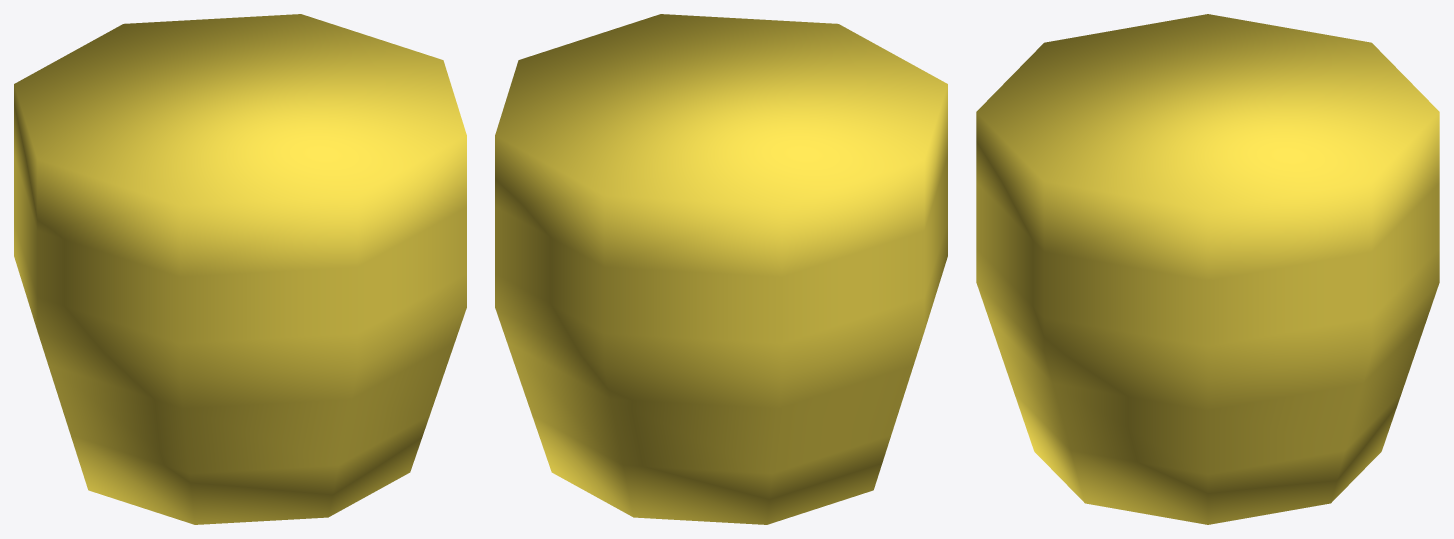
Rendered from lemonade 4.glb.
3 renders of one model, left to right at view 1: azimuth 30°, elevation 25°; view 2: azimuth 150°, elevation 25°; view 3: azimuth 270°, elevation 25°, orthographic.
Visible parts, largest first — view 1: Cylinder.003; view 2: Cylinder.003; view 3: Cylinder.003.
Part boxes in pixels (left/top/right/bottom): Cylinder.003: left=14, top=14, right=466, bottom=524; Cylinder.003: left=495, top=14, right=947, bottom=524; Cylinder.003: left=976, top=14, right=1439, bottom=524.
Bounding box in the file's own units: 1.94 × 1.57 × 1.94.
